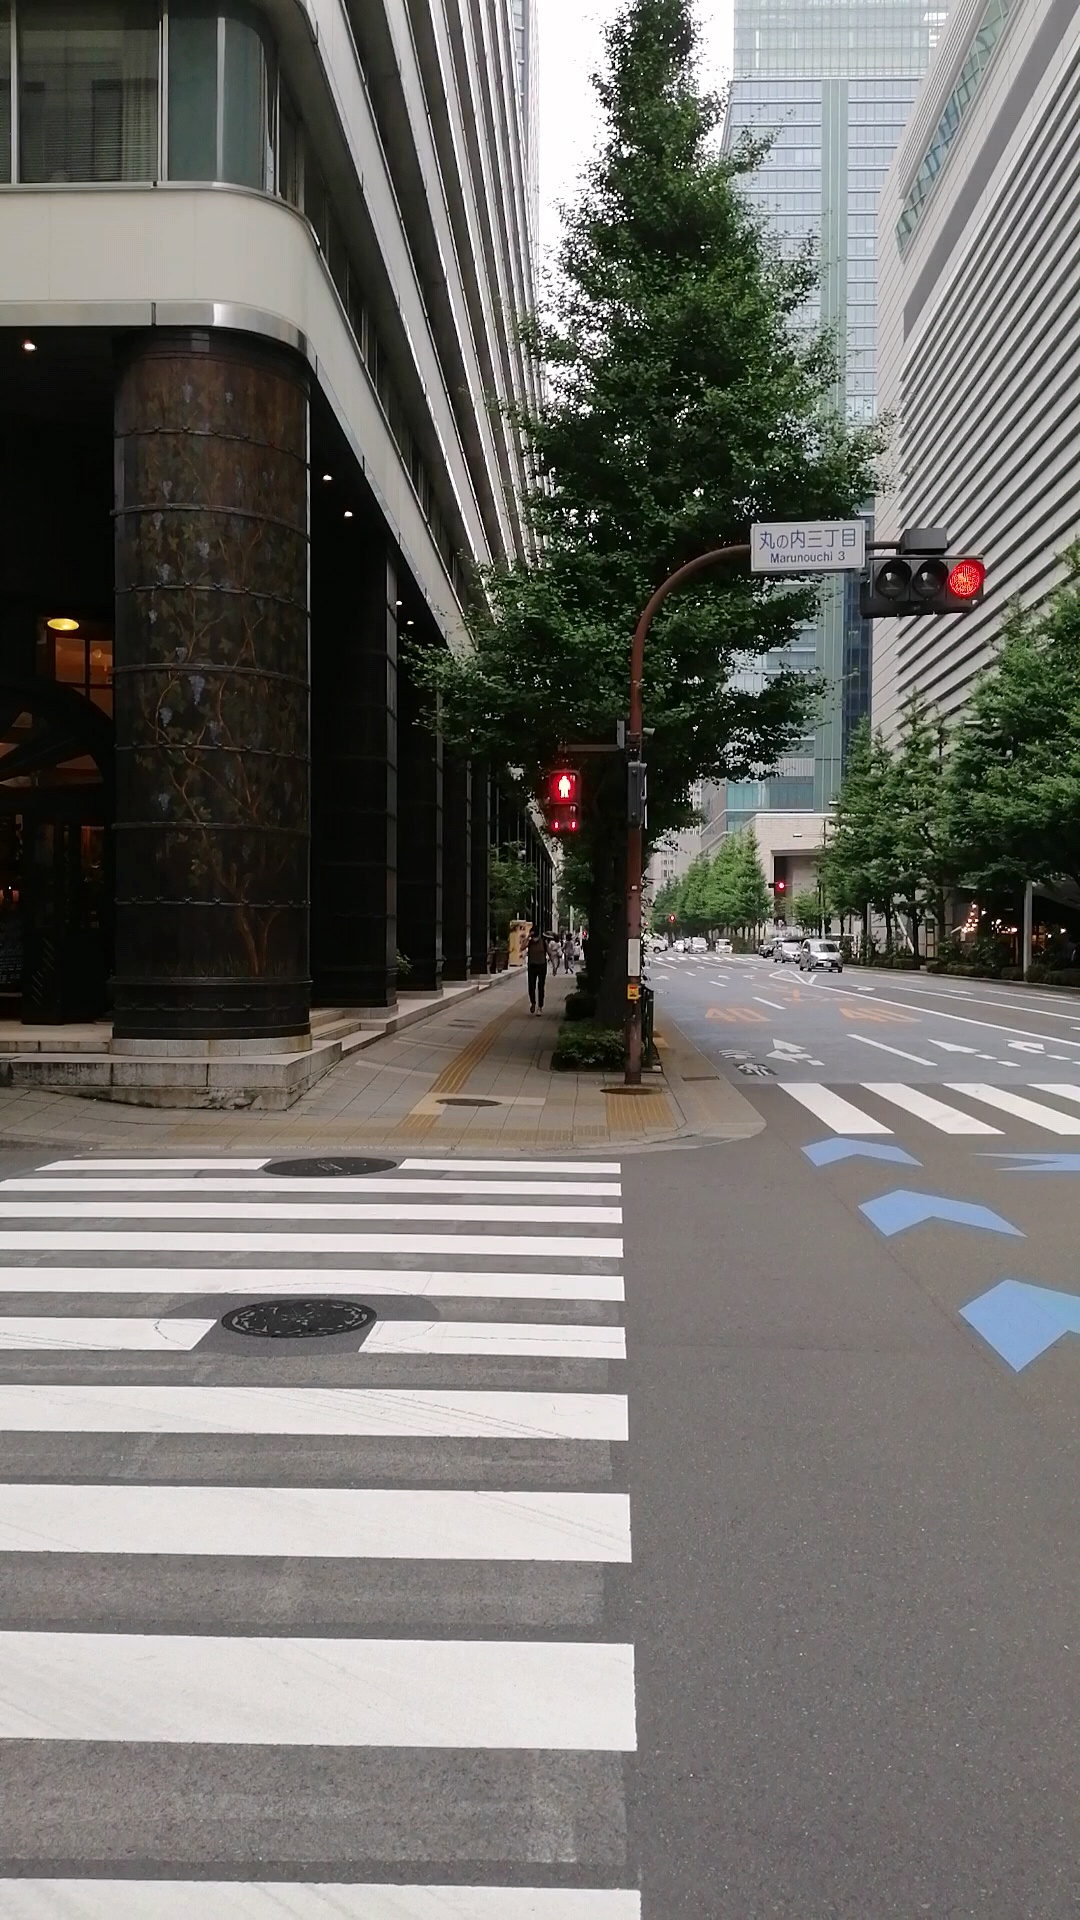red: (549, 767, 582, 835)
